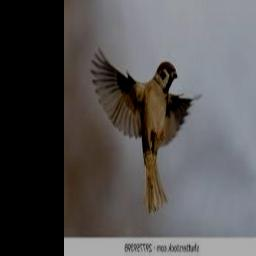Sparrow: (91, 46, 202, 213)
